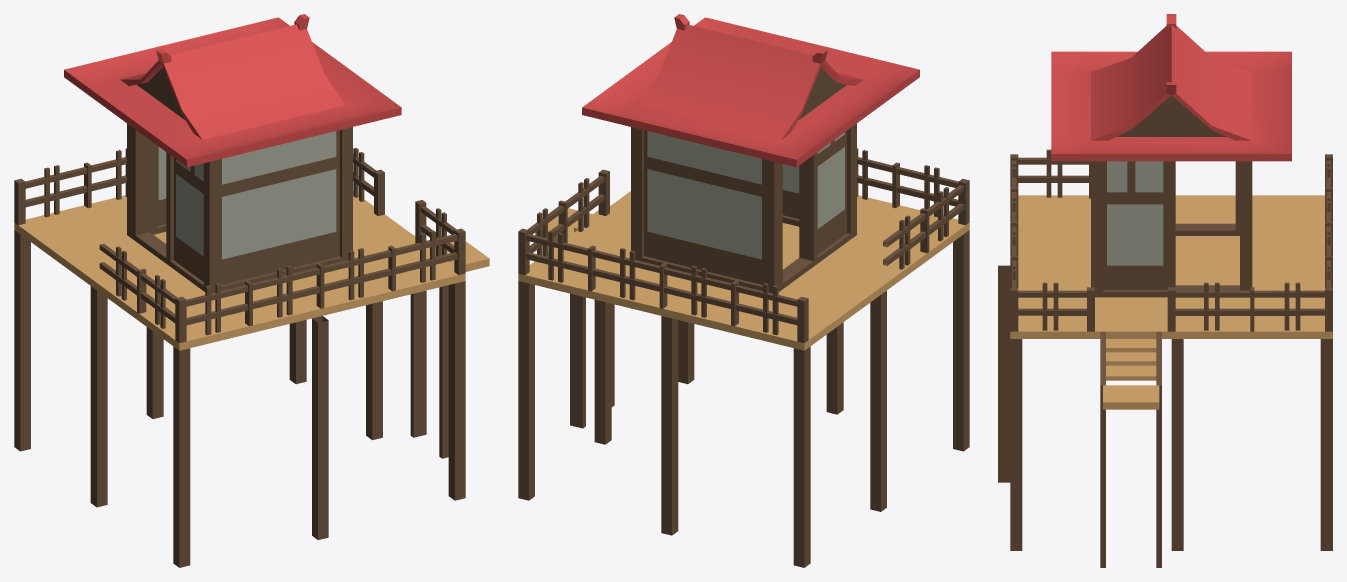
File: HouseSmall.fbx
The picture shows the model from 3 angles, left to right: view 1: azimuth 30°, elevation 25°; view 2: azimuth 150°, elevation 25°; view 3: azimuth 270°, elevation 25°; orthographic projection. The views are drawn at different scales.
Parts seen in each view (by area): view 1: House; view 2: House; view 3: House.
Part boxes in pixels (bbox=[...]): House: bbox=[14, 14, 489, 567]; House: bbox=[518, 14, 969, 567]; House: bbox=[998, 14, 1332, 567].
Bounding box in the file's own units: 500 × 588 × 415.
